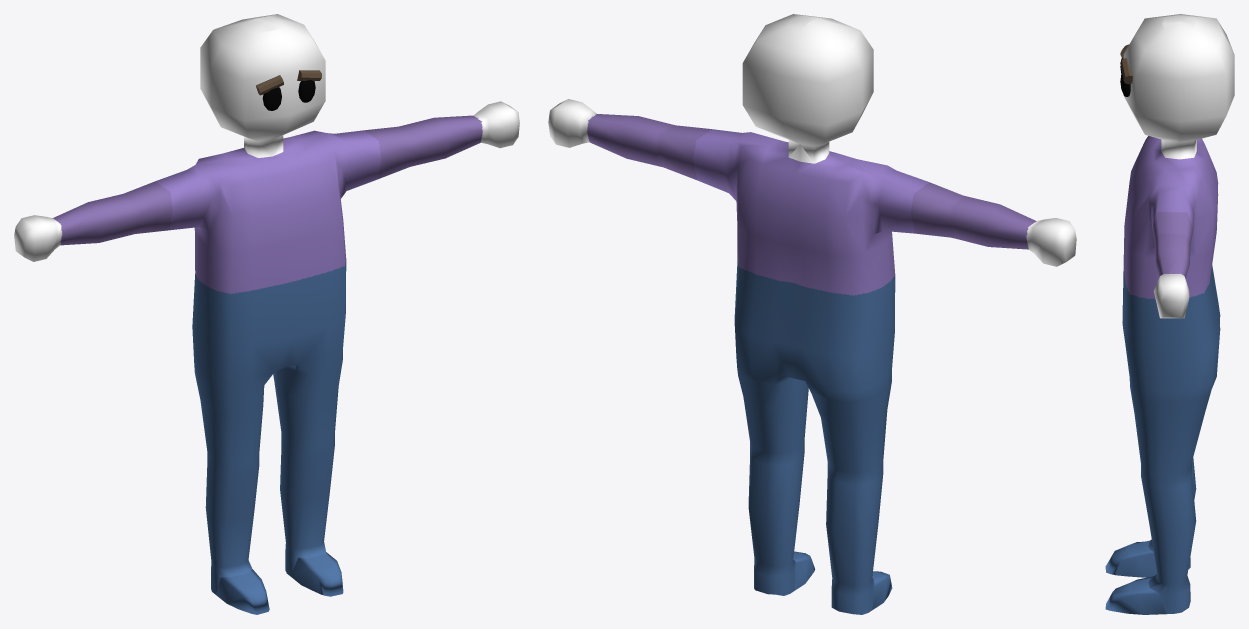
File: Character_2_textured.fbx
3 views of the same model, side by side, from view 1: azimuth 30°, elevation 25°; view 2: azimuth 150°, elevation 25°; view 3: azimuth 270°, elevation 25° (orthographic). The views are drawn at different scales.
Visible parts, largest first — view 1: pCube1, pSphere1; view 2: pCube1; view 3: pCube1, pCylinder4.
Part boxes in pixels (x1,y1,x2,y2): pCube1: (14,14,519,614); pSphere1: (262,80,315,110); pCube1: (548,14,1076,614); pCube1: (1105,14,1234,614); pCylinder4: (1120,44,1132,84).
Size of the model in its own units: 163 by 175 by 36.04.
Materials: 1 (1 with a texture image).
